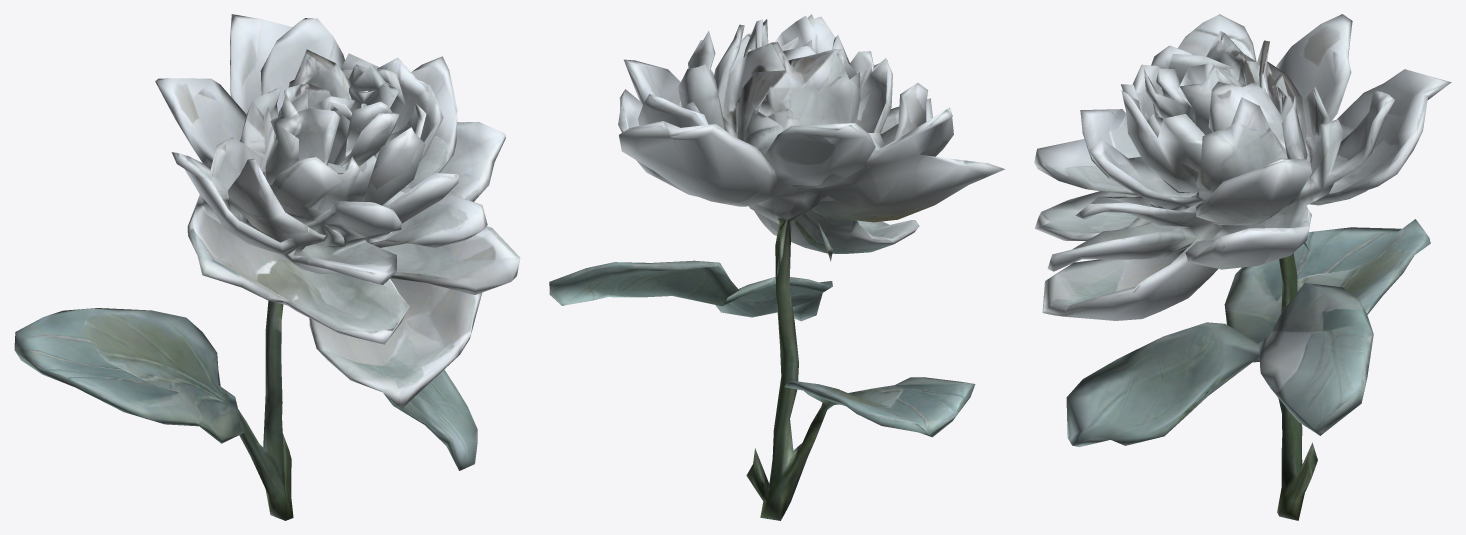
Rendered from testFlower.glb.
The picture shows the model from 3 angles, left to right: view 1: azimuth 30°, elevation 25°; view 2: azimuth 150°, elevation 25°; view 3: azimuth 270°, elevation 25°; orthographic projection. The views are drawn at different scales.
Parts seen in each view (by area): view 1: Mesh_0; view 2: Mesh_0; view 3: Mesh_0.
Boxes of the visible parts, box(x1,y1,x2,y2) form: Mesh_0: box(14, 14, 520, 520); Mesh_0: box(549, 14, 1004, 520); Mesh_0: box(1034, 14, 1451, 520).
Bounding box in the file's own units: 0.9233 × 1 × 0.787.
1 material, 1 textured.
